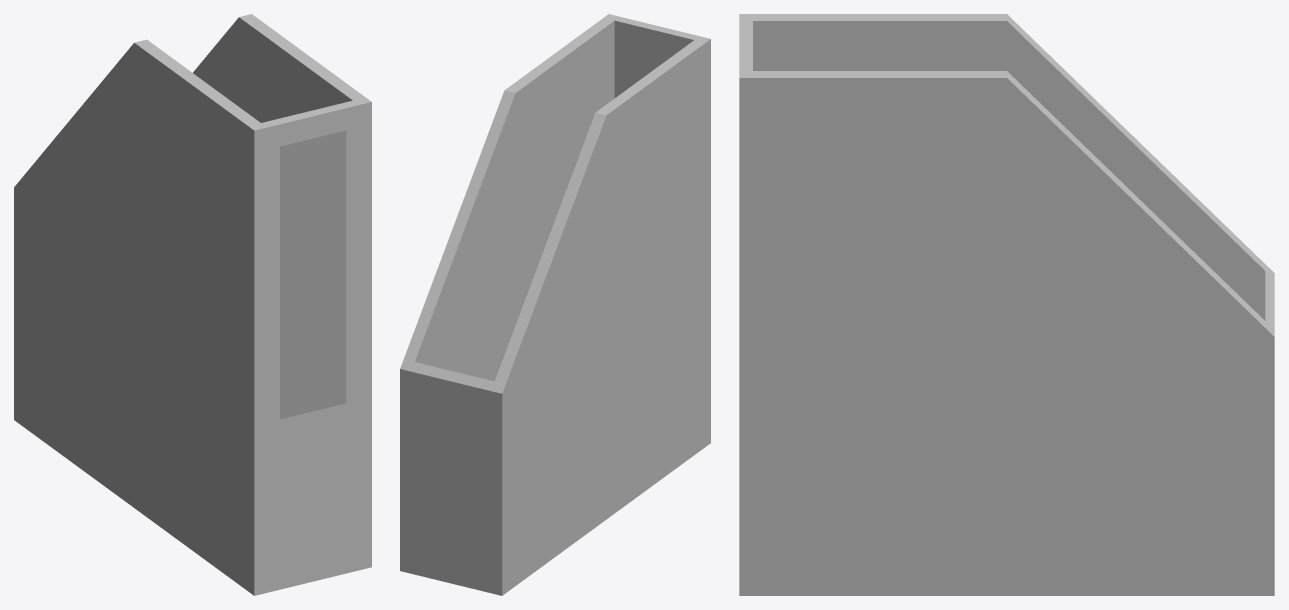
Rendered from FileHolderV1White.fbx.
3 renders of one model, left to right at view 1: azimuth 30°, elevation 25°; view 2: azimuth 150°, elevation 25°; view 3: azimuth 270°, elevation 25°, orthographic. The views are drawn at different scales.
Parts seen in each view (by area): view 1: FileHolderV1White; view 2: FileHolderV1White; view 3: FileHolderV1White.
Boxes of the visible parts, left/top/right/bottom form: FileHolderV1White: left=14, top=14, right=371, bottom=595; FileHolderV1White: left=400, top=14, right=710, bottom=595; FileHolderV1White: left=739, top=14, right=1274, bottom=595.
Bounding box in the file's own units: 7.39 × 27.94 × 26.15.
